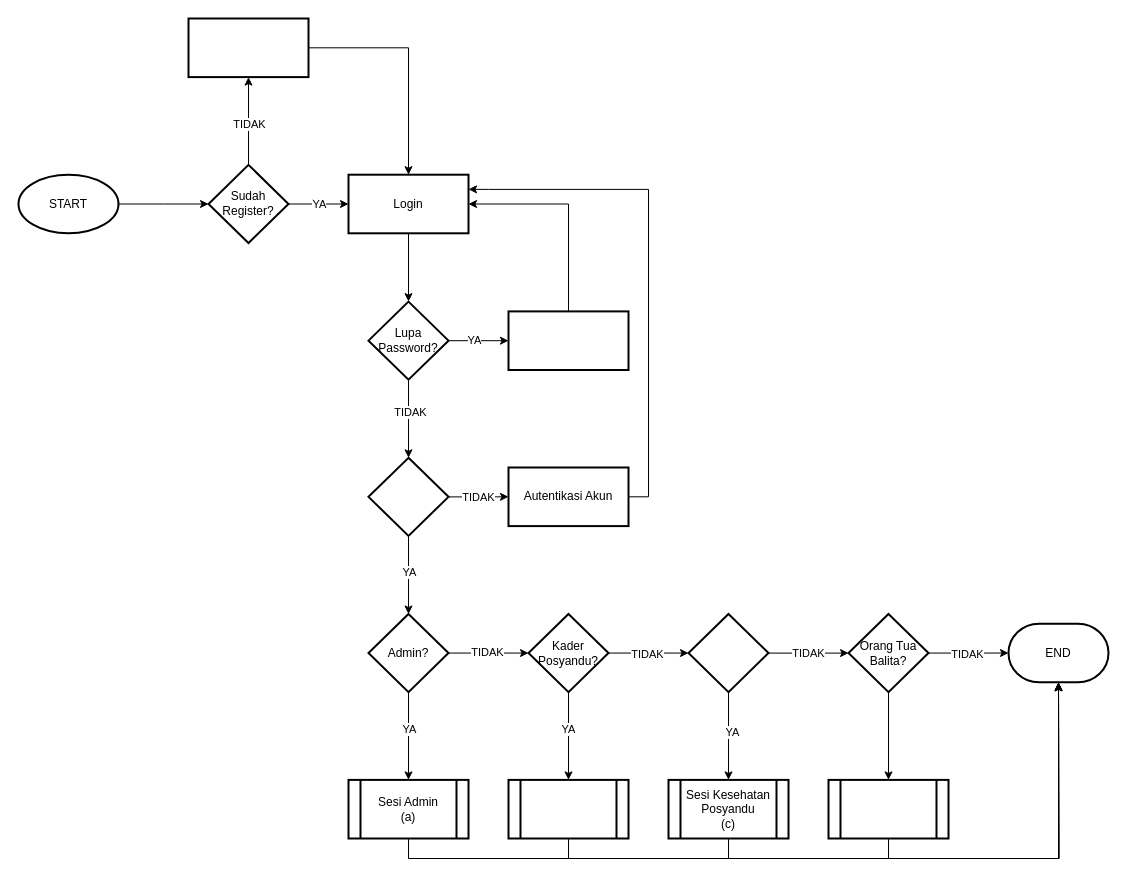
The diagram is 1126 pixels wide and 884 high, and some of its shapes have lost their labels. The shapes that lost their labels are listed below. From the top down, each one's box as (x1, y1, x2, y2) in pixels, then its label:
(187, 17, 309, 78): Register
(507, 310, 629, 370): Reset Password
(367, 456, 449, 536): Sudah Autentikasi Akun?
(687, 612, 769, 693): Tenaga Kesehatan Posyandu?
(507, 778, 629, 839): Sesi Kader Posyandu (b)
(827, 778, 949, 839): Sesi Orang Tua Balita (d)
